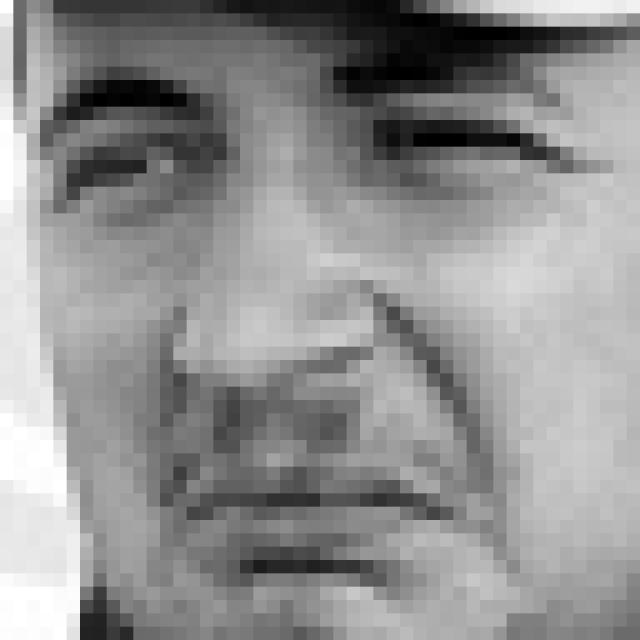disgust: (33, 53, 620, 612)
